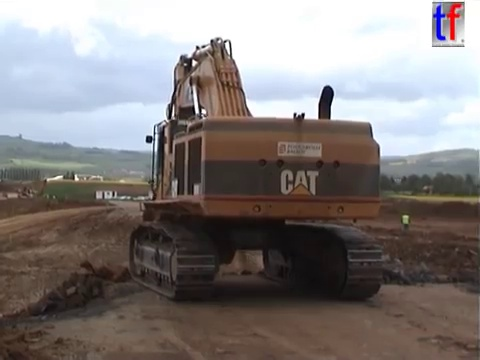excavator: (124, 34, 388, 303), (14, 184, 41, 202)
worker: (398, 207, 413, 233)
